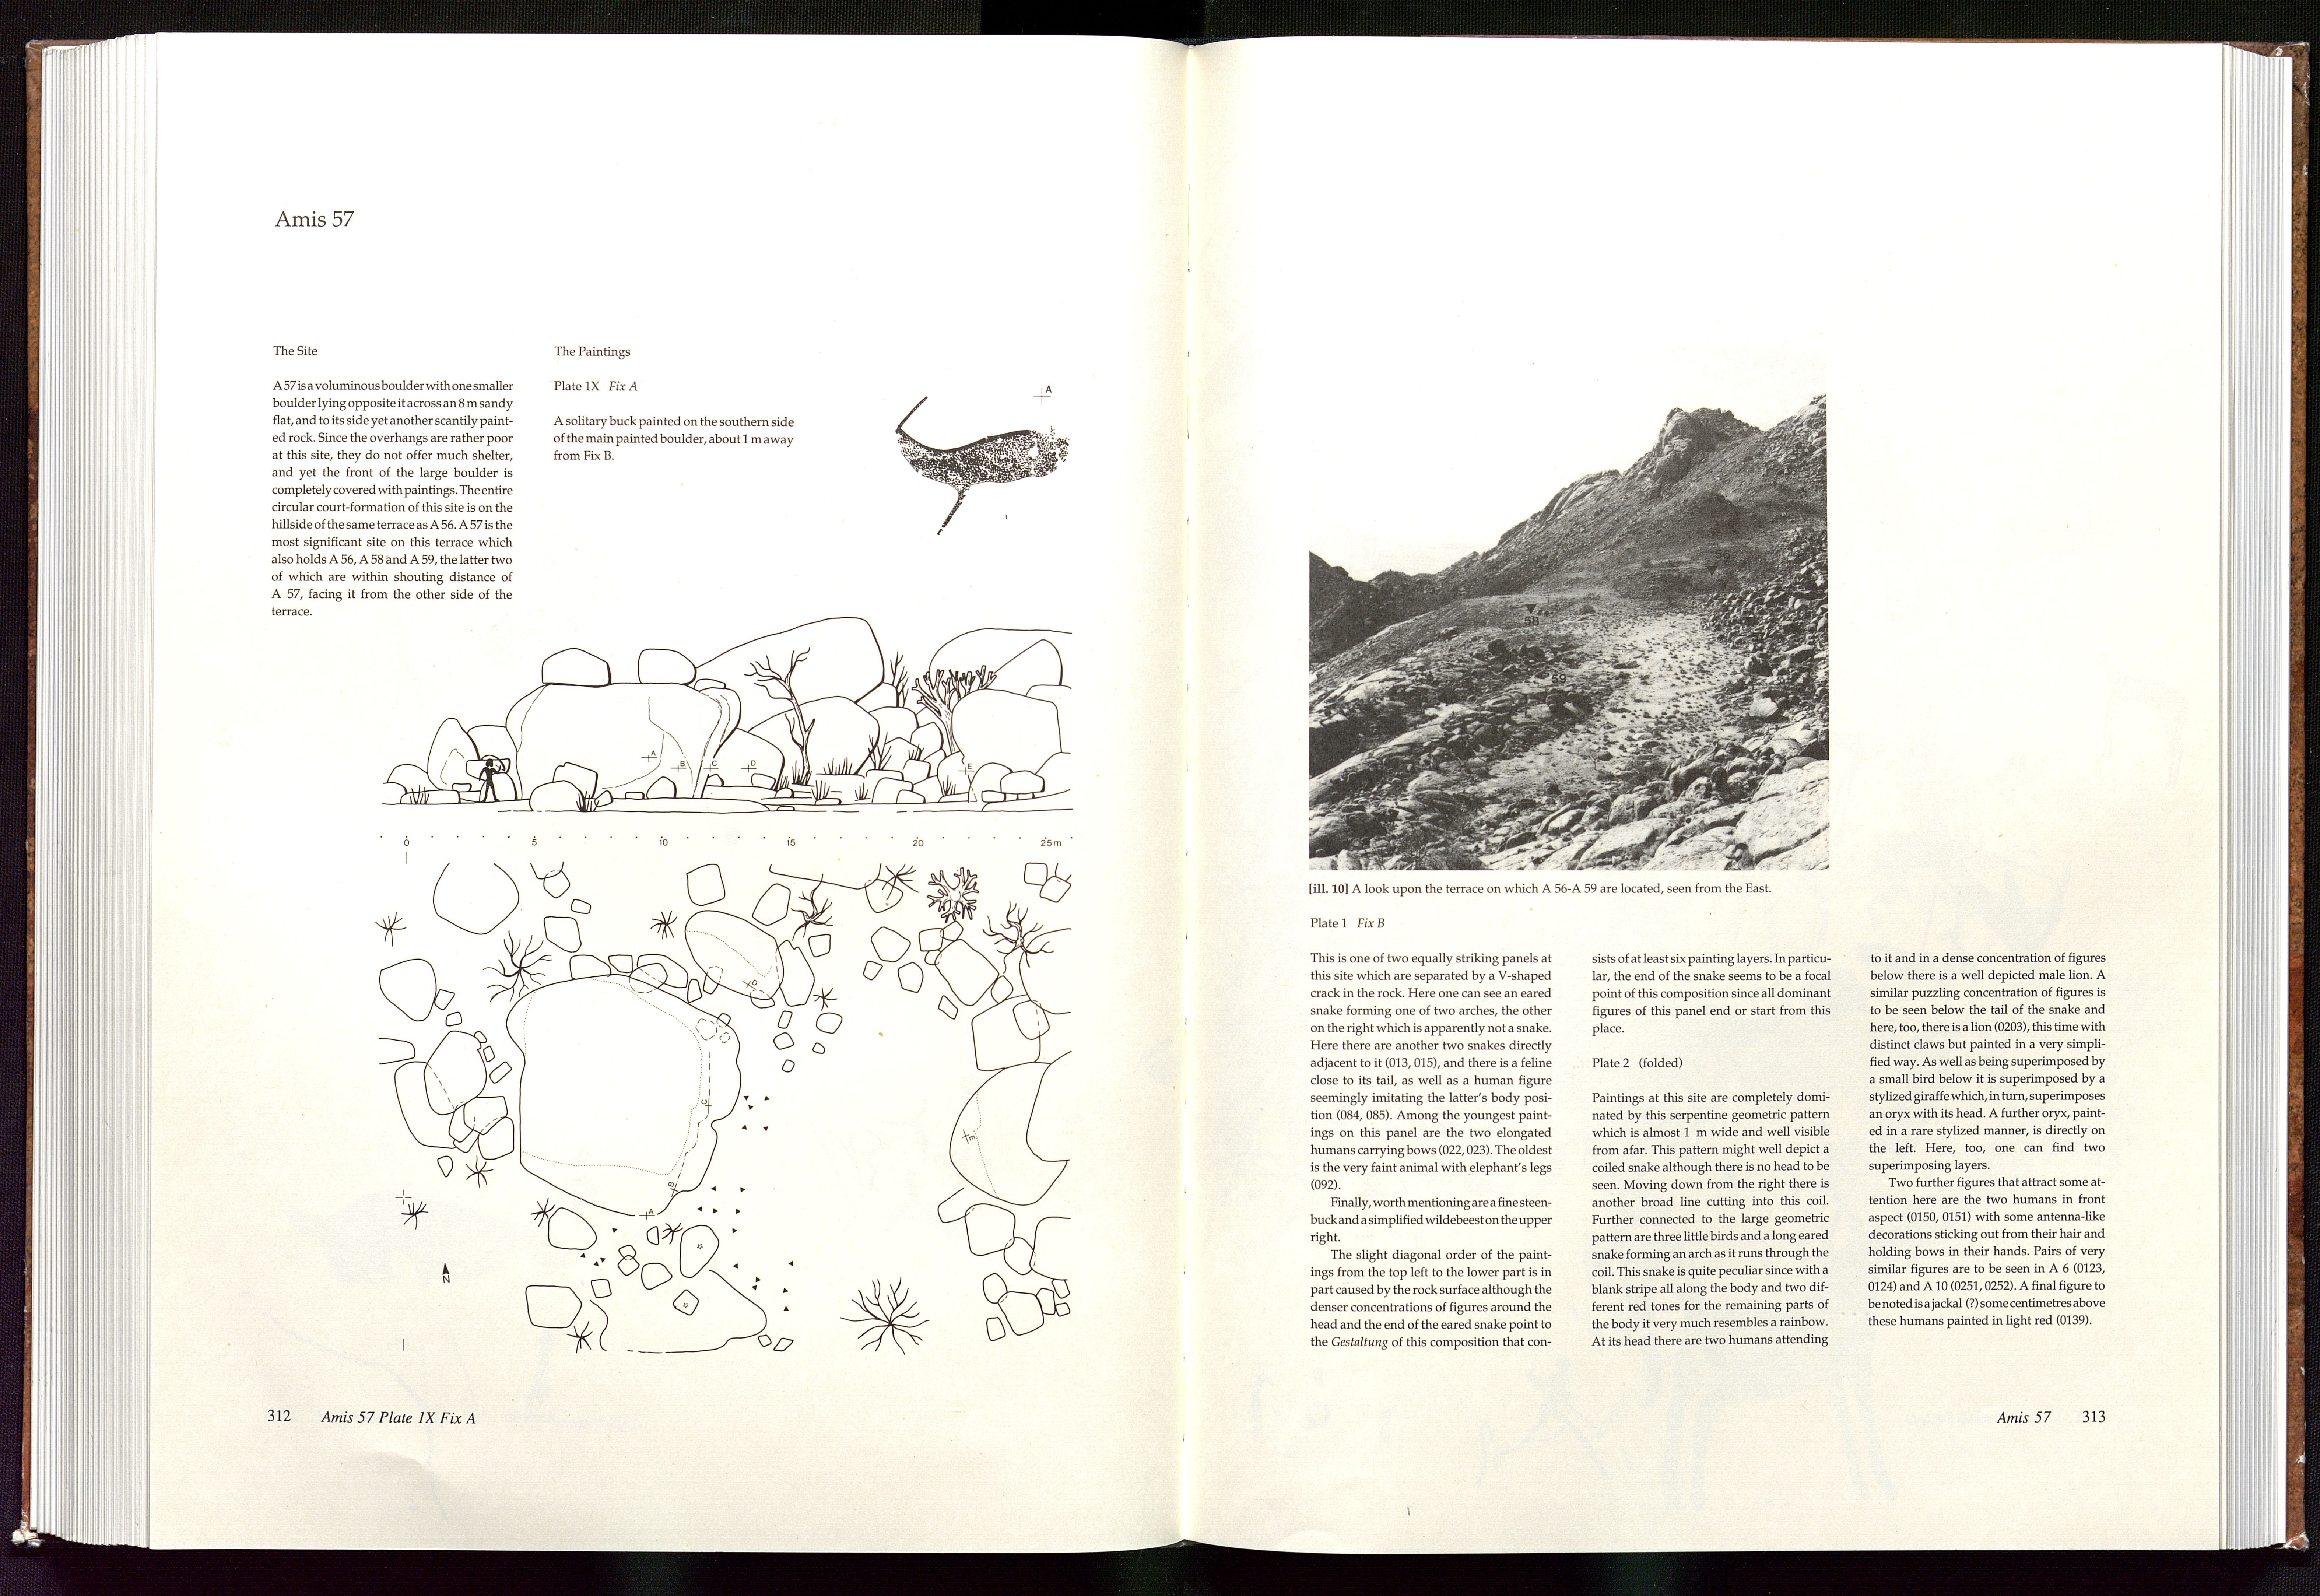animal: (885, 393, 1084, 536)
